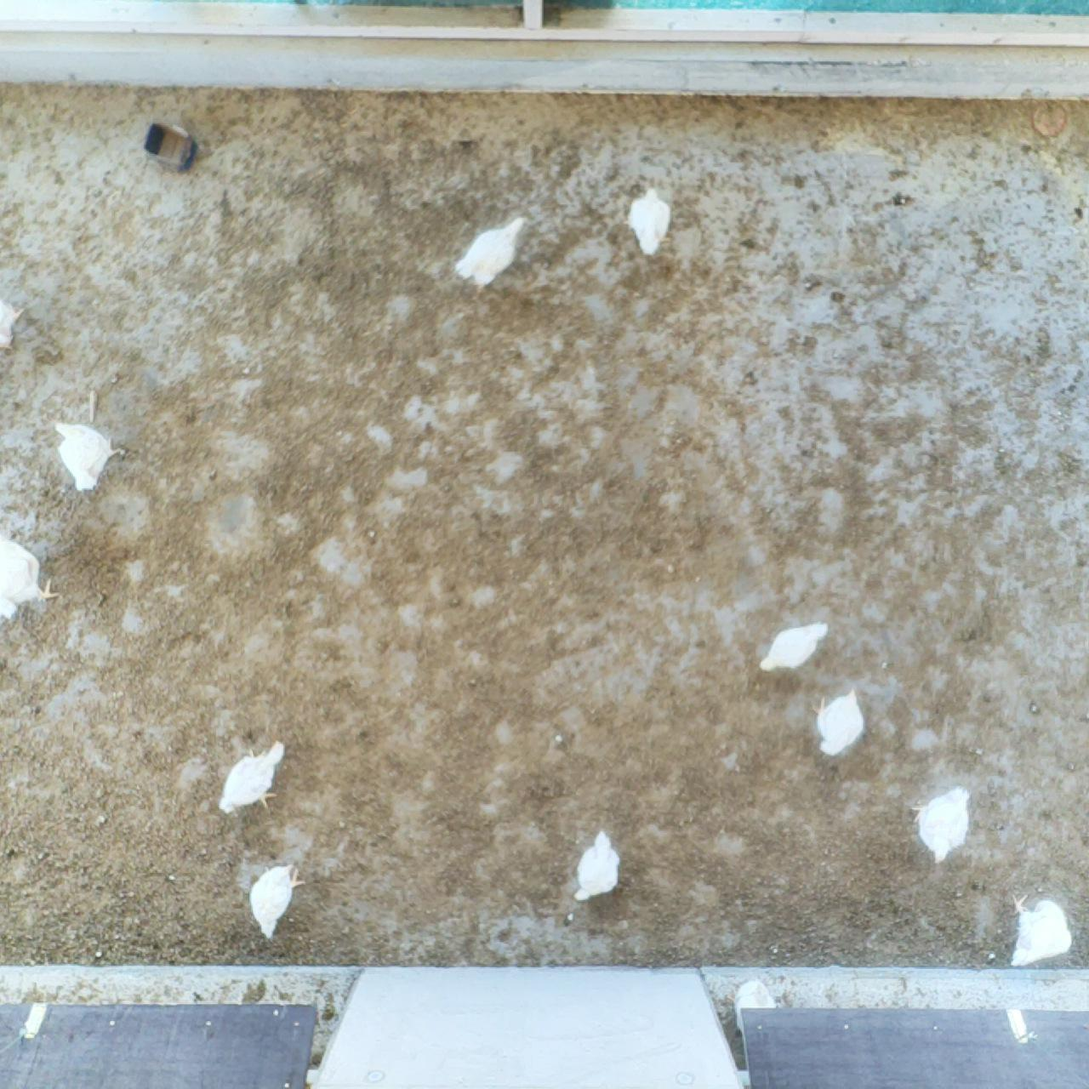chicken: (451, 214, 532, 298), (50, 412, 128, 497), (213, 737, 289, 821), (1004, 887, 1079, 972), (0, 527, 64, 626), (909, 781, 976, 869), (245, 856, 307, 943), (806, 683, 867, 760), (754, 619, 832, 678), (620, 184, 678, 260), (570, 826, 624, 905), (0, 293, 32, 357)
